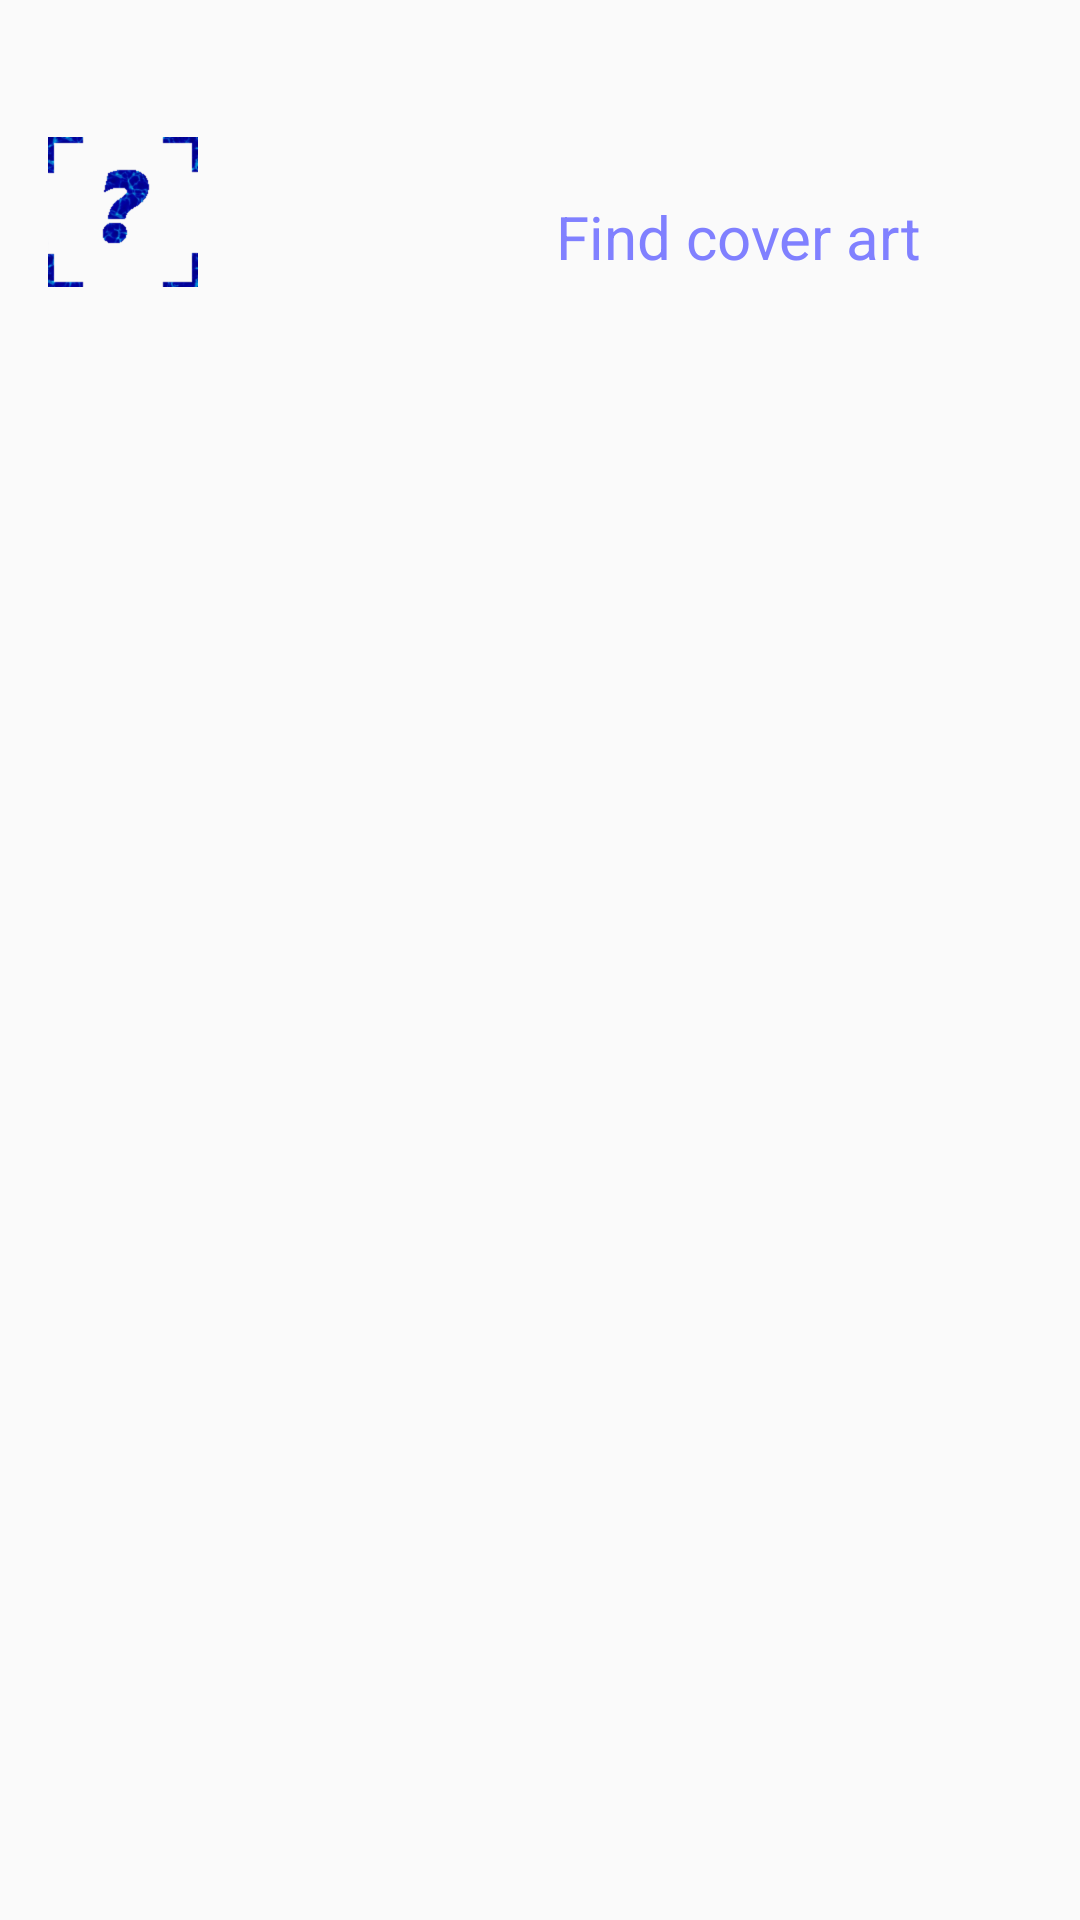

Icon bounding boxes for this 1080 × 1920 phone screenshot, format (x1, y1, x2, y2):
Cover Art: (48, 137, 198, 287)
